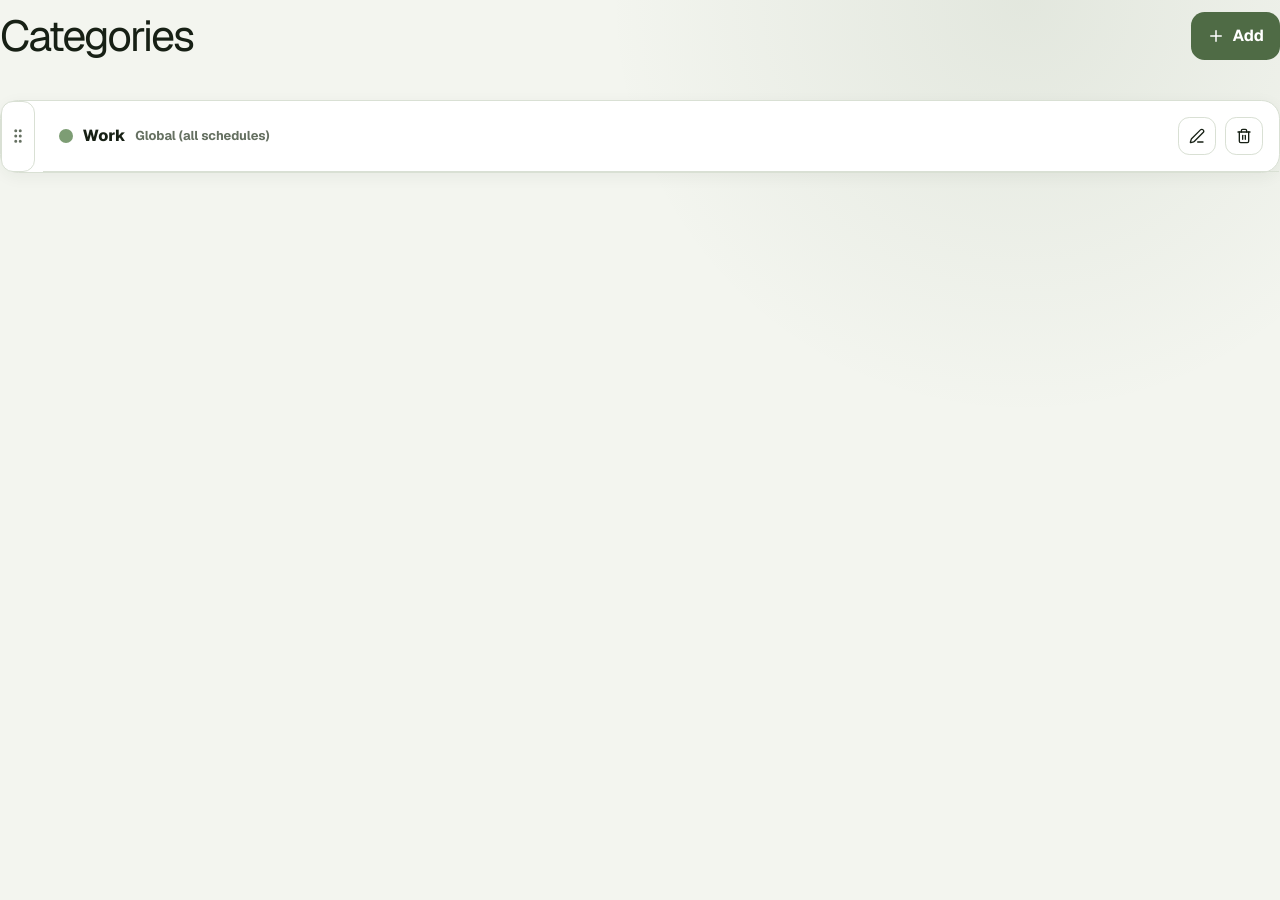
Test case: CategoriesView › offers an explicit cancel action and names row actions
The image size is (1280, 900).
expect the button named "Edit Work" is shown: met, box [1178, 117, 1216, 155]
expect the button named "Delete Work" is shown: met, box [1225, 117, 1263, 155]
Step 1. Click the button "Add" → point(1236, 36), box [1191, 12, 1279, 60]
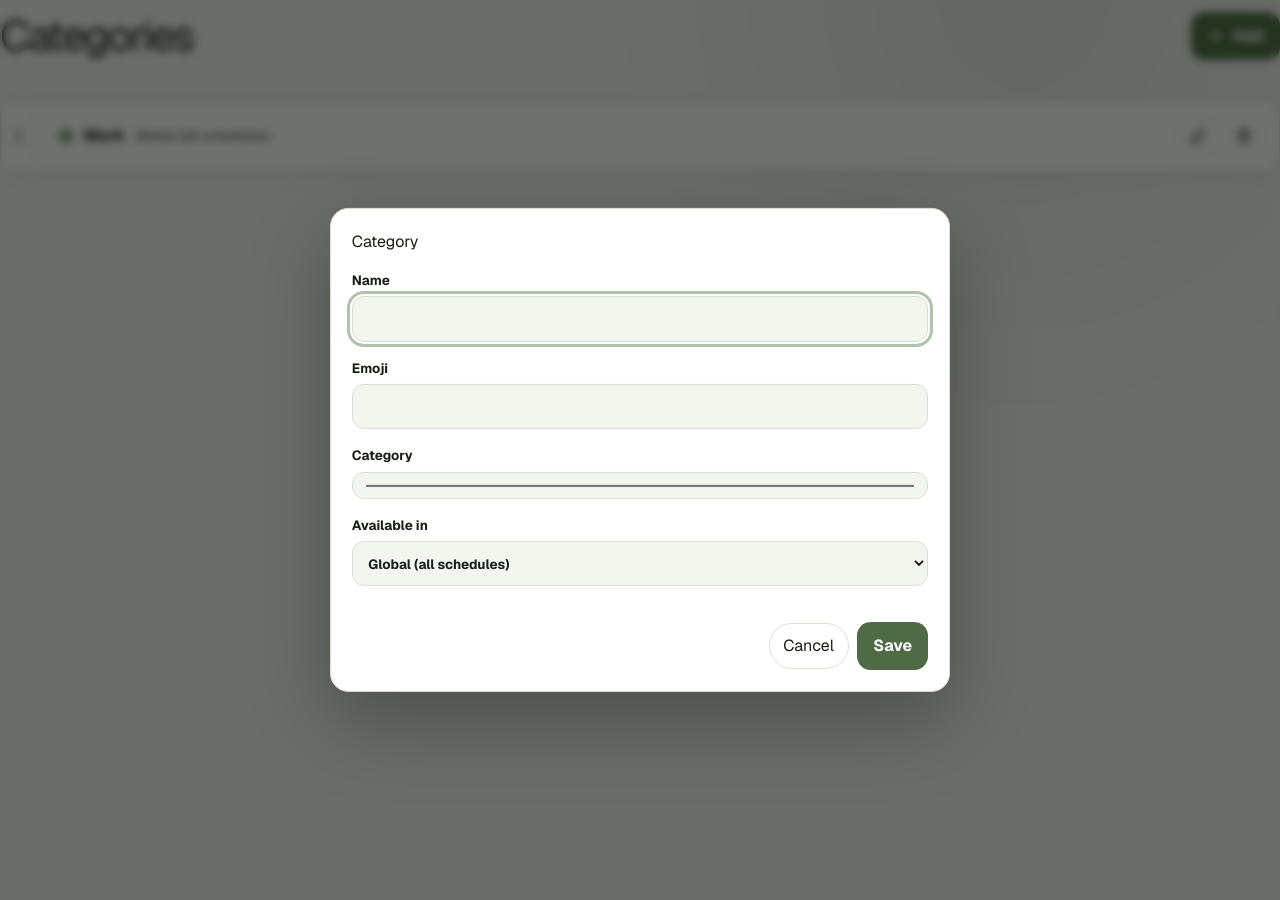
expect the dialog "Category" is shown: met, box [330, 208, 950, 692]
Step 2. Click the button "Cancel" → point(808, 646), box [768, 623, 848, 669]
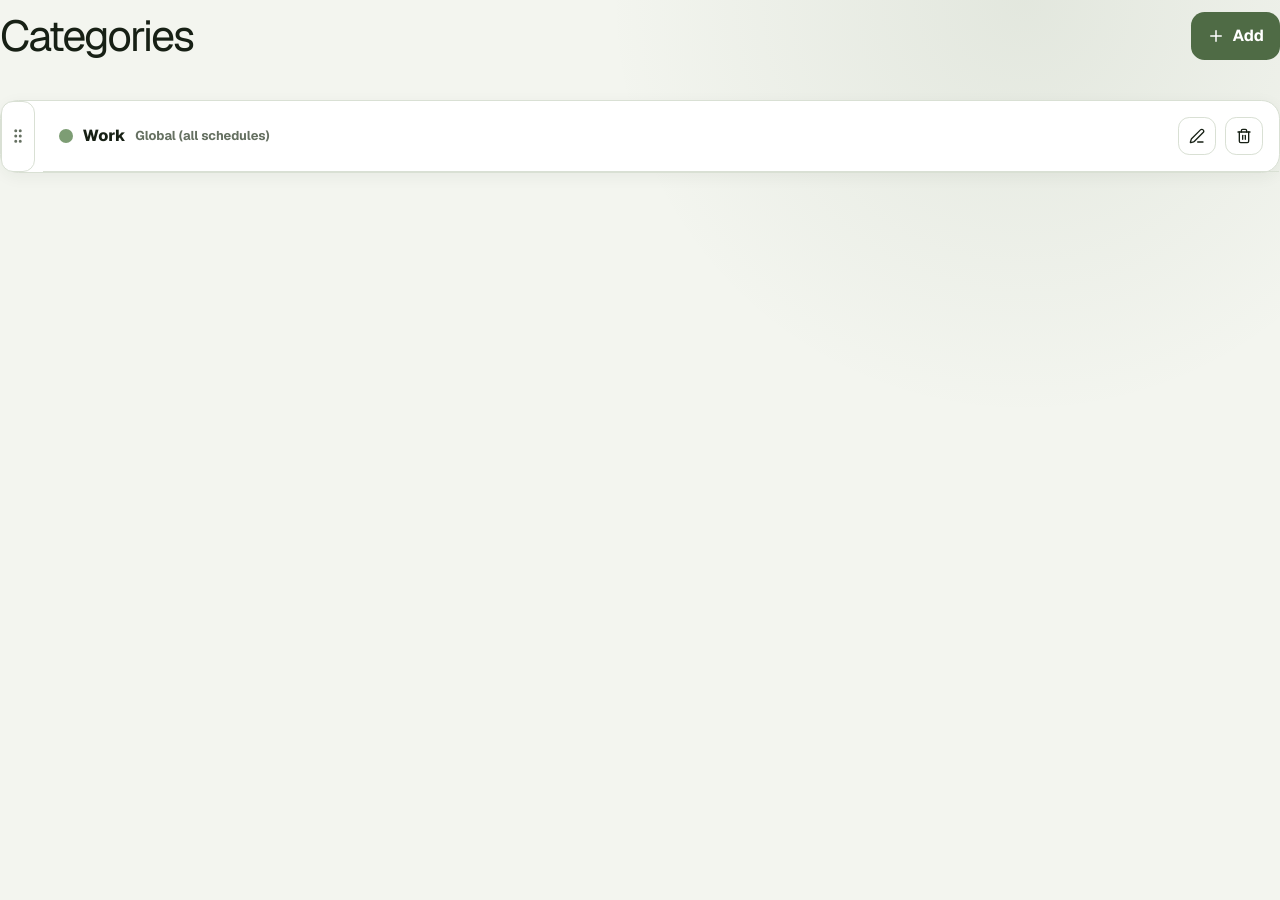
expect the heading "Category" is gone: met
